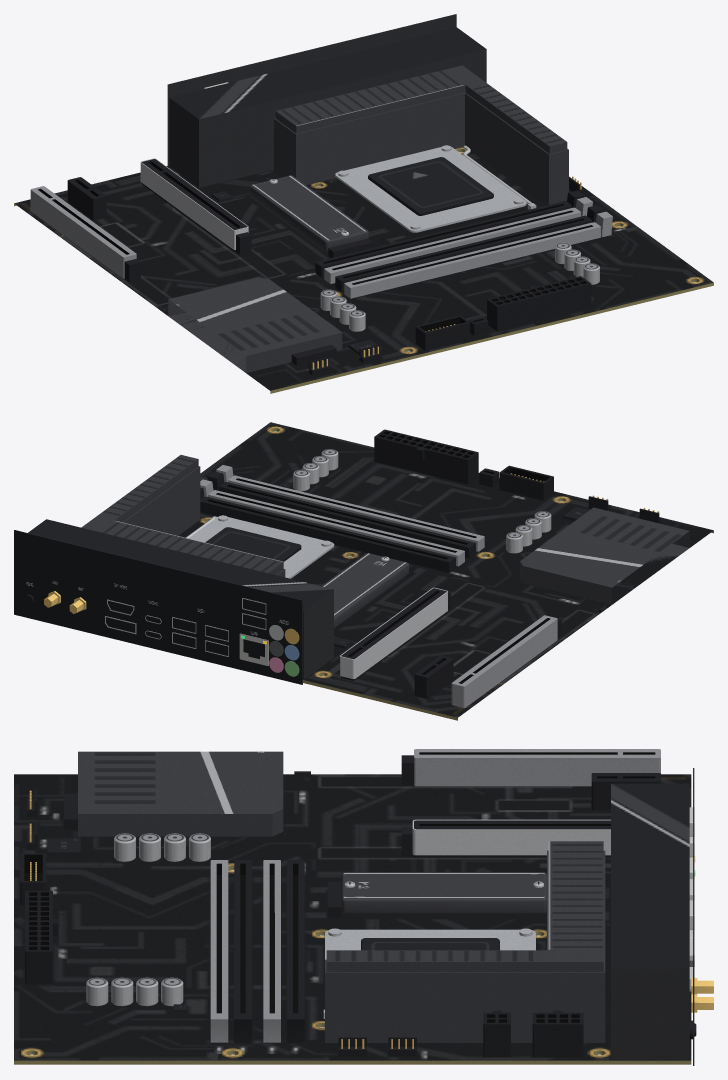
Rendered from matx-motherboard.glb.
The picture shows the model from 3 angles, top to bottom: view 1: azimuth 30°, elevation 25°; view 2: azimuth 150°, elevation 25°; view 3: azimuth 270°, elevation 25°; orthographic projection. The views are drawn at different scales.
Parts seen in each view (by area): view 1: Printed circuit board, VRM heatsink, Rear I/O cover, Chipset and M.2 heatsink, Socket load frame and plate, DIMM slot B2, M.2 heatsink cover, Socket protective cap, Rear I/O shield, PCIe x16 slot 4, Power connectors (24-pin, 8-pin, 4-pin), DIMM slot A2 (+7 smaller); view 2: Printed circuit board, Rear I/O shield, Chipset and M.2 heatsink, VRM heatsink, Rear I/O cover, DIMM slot A1, PCIe x16 slot 4, Power connectors (24-pin, 8-pin, 4-pin), M.2 heatsink cover, DIMM slot B1, DIMM slot B2, DIMM slot A2 (+11 smaller); view 3: Printed circuit board, VRM heatsink, Rear I/O cover, Chipset and M.2 heatsink, PCIe x16 slot 4, M.2 heatsink cover, Power connectors (24-pin, 8-pin, 4-pin), PCIe slot armour (steel), Solid capacitors, DIMM slot B2, DIMM slot A1, DIMM slot A2 (+12 smaller).
Part boxes in pixels (x1,y1,x2,y2): Printed circuit board: (14,147,713,393); VRM heatsink: (274,65,568,205); Rear I/O cover: (169,27,486,187); Chipset and M.2 heatsink: (168,277,342,372); Socket load frame and plate: (335,145,526,232); DIMM slot B2: (344,211,612,298); M.2 heatsink cover: (249,175,368,252); Socket protective cap: (368,157,493,215); Rear I/O shield: (167,14,456,165); PCIe x16 slot 4: (30,186,140,281); Power connectors (24-pin, 8-pin, 4-pin): (487,276,591,331); DIMM slot A2: (324,197,592,283); Printed circuit board: (178,422,713,720); Rear I/O shield: (14,530,302,684); Chipset and M.2 heatsink: (520,507,689,604); VRM heatsink: (81,455,285,577); Rear I/O cover: (28,519,333,679); DIMM slot A1: (200,487,455,572); PCIe x16 slot 4: (451,615,561,707); Power connectors (24-pin, 8-pin, 4-pin): (374,429,478,484); M.2 heatsink cover: (321,553,408,628); DIMM slot B1: (207,471,475,558); DIMM slot B2: (216,465,484,551); DIMM slot A2: (200,479,464,566); Printed circuit board: (14,774,691,1064); VRM heatsink: (325,841,605,1042); Rear I/O cover: (611,783,689,1059); Chipset and M.2 heatsink: (78,751,283,836); PCIe x16 slot 4: (401,749,660,786); M.2 heatsink cover: (341,872,546,913); Power connectors (24-pin, 8-pin, 4-pin): (25,890,583,1056); PCIe slot armour (steel): (412,819,610,855); Solid capacitors: (86,833,210,1006); DIMM slot B2: (210,860,228,1042); DIMM slot A1: (287,860,304,1042); DIMM slot A2: (263,860,280,1042).
Bounding box in the file's own units: 0.244 × 0.0445 × 0.2521.
Materials: 40 (40 with a texture image).
